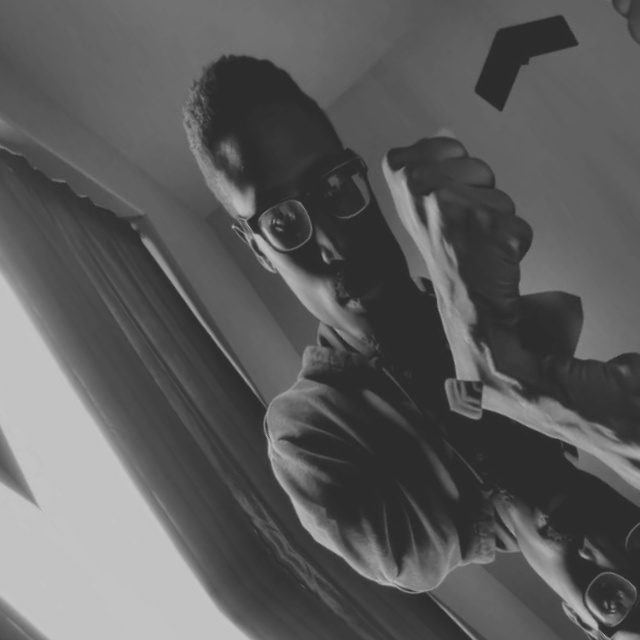Rock: (574, 0, 640, 150)
